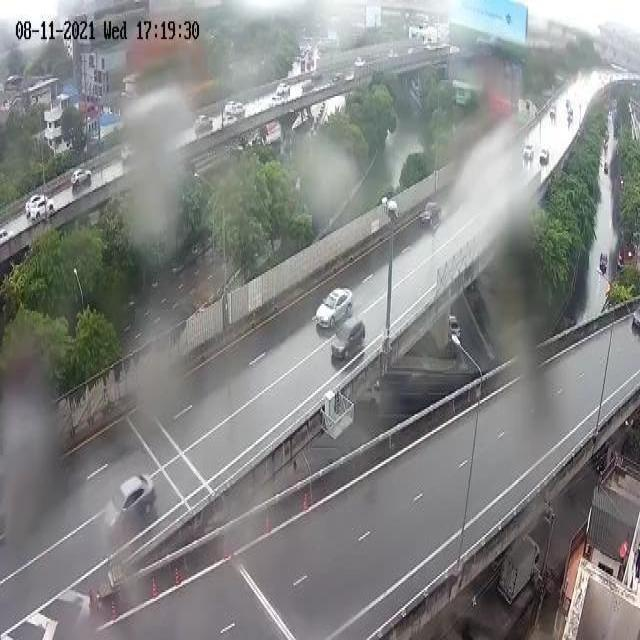Car: (100, 475, 156, 540), (314, 282, 356, 338), (329, 321, 366, 365), (70, 165, 92, 192), (449, 314, 461, 339)
